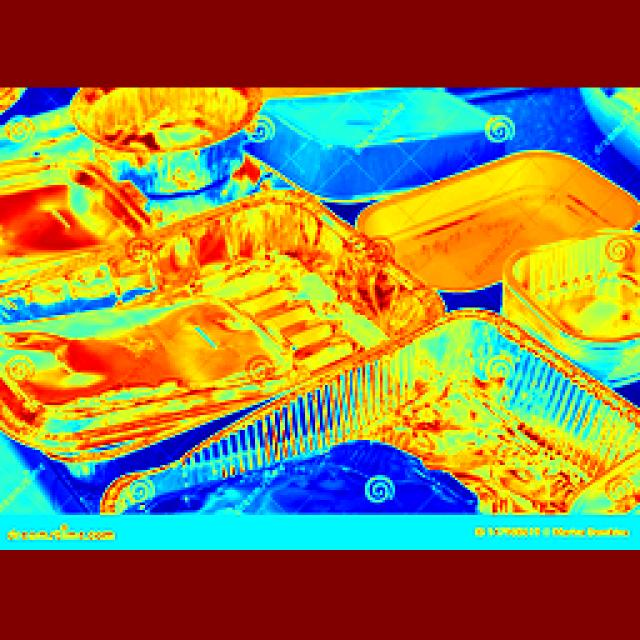Aluminium Food Cans: (223, 322, 640, 532), (16, 224, 391, 396), (342, 168, 628, 265), (70, 77, 271, 183), (529, 245, 640, 373)
